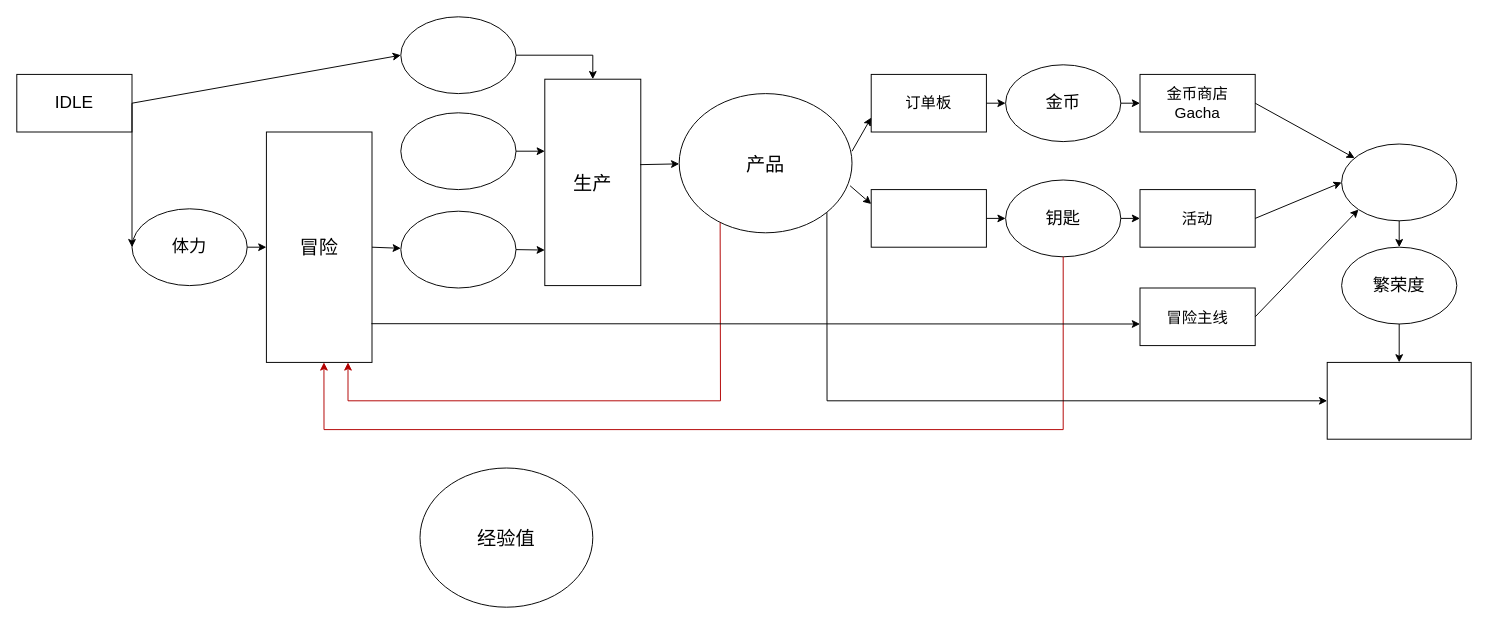
Image size: 1488x624. Some labels were removed from this diagram. Here are the shapes that lost their labels. From the top down, the centre of each, then its label:
At point 458,55: "农作物".
At point 458,151: "精灵礼物".
At point 1399,182: "装饰".
At point 928,218: "龙单".
At point 458,249: "普通采集 稀有采集品 珍稀采集品".
At point 1398,400: "空间".
